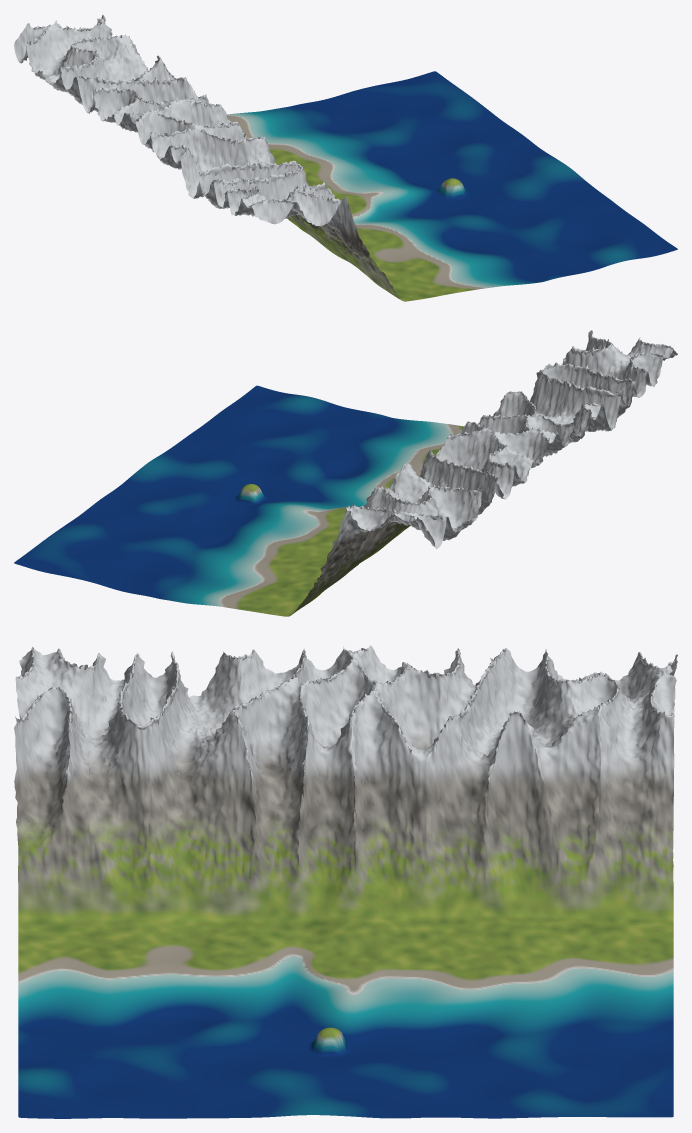
The model's file is terrain.glb.
3 views of the same model, one above another, from view 1: azimuth 30°, elevation 25°; view 2: azimuth 150°, elevation 25°; view 3: azimuth 270°, elevation 25° (orthographic). The views are drawn at different scales.
Parts seen in each view (by area): view 1: TerrainWeb; view 2: TerrainWeb; view 3: TerrainWeb.
Boxes of the visible parts, left/top/right/bottom form: TerrainWeb: left=14, top=15, right=677, bottom=301; TerrainWeb: left=14, top=330, right=677, bottom=616; TerrainWeb: left=14, top=645, right=677, bottom=1118.
Size of the model in its own units: 423 by 142 by 425.
